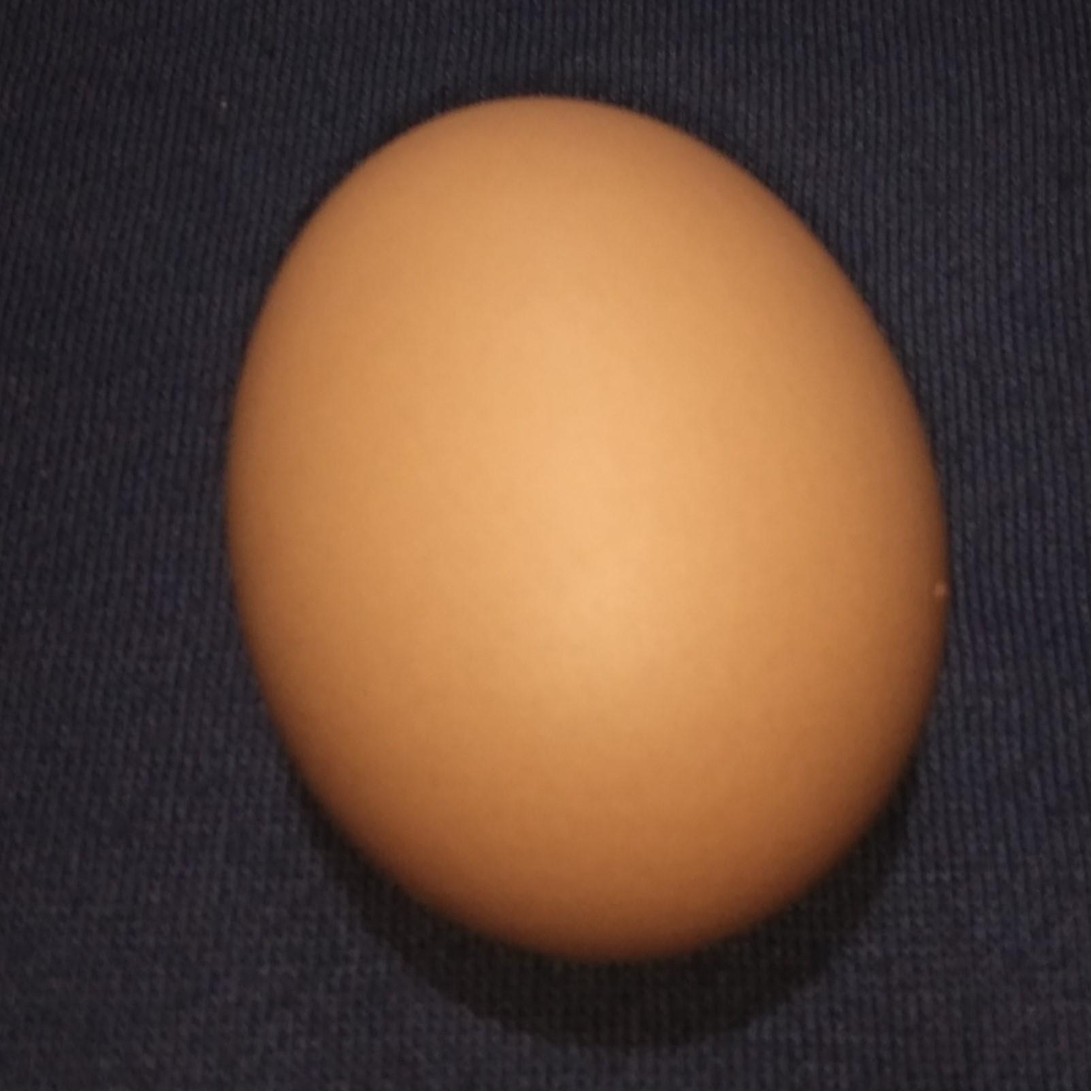egg: (222, 90, 957, 962)
